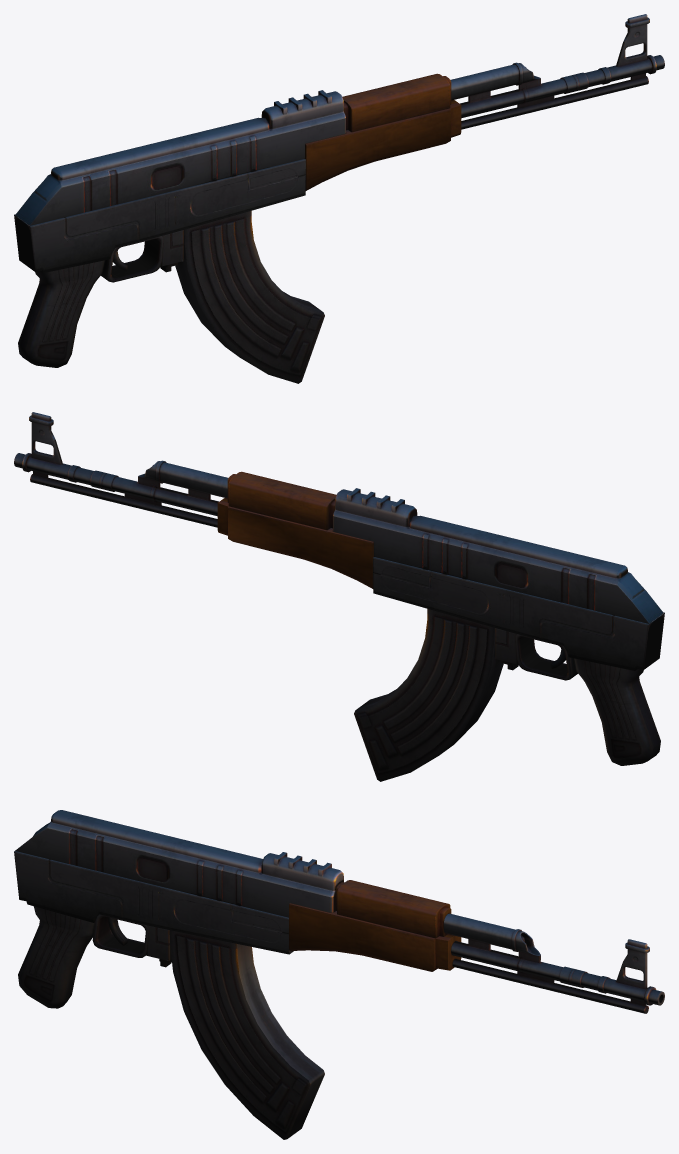
Rendered from ak47variant.glb.
3 renders of one model, top to bottom at view 1: azimuth 30°, elevation 25°; view 2: azimuth 150°, elevation 25°; view 3: azimuth 330°, elevation 25°, orthographic.
Parts seen in each view (by area): view 1: ak47variant, akmagazine_low.001; view 2: ak47variant, akmagazine_low.001; view 3: ak47variant, akmagazine_low.001.
Part boxes in pixels (x1,y1,x2,y2): ak47variant: [14, 14, 664, 367]; akmagazine_low.001: [175, 210, 324, 383]; ak47variant: [14, 412, 664, 765]; akmagazine_low.001: [354, 608, 503, 781]; ak47variant: [14, 810, 664, 1013]; akmagazine_low.001: [169, 930, 324, 1139].
Size of the model in its own units: 0.5438 by 0.2256 by 0.0253.
Materials: 1 (1 with a texture image).
